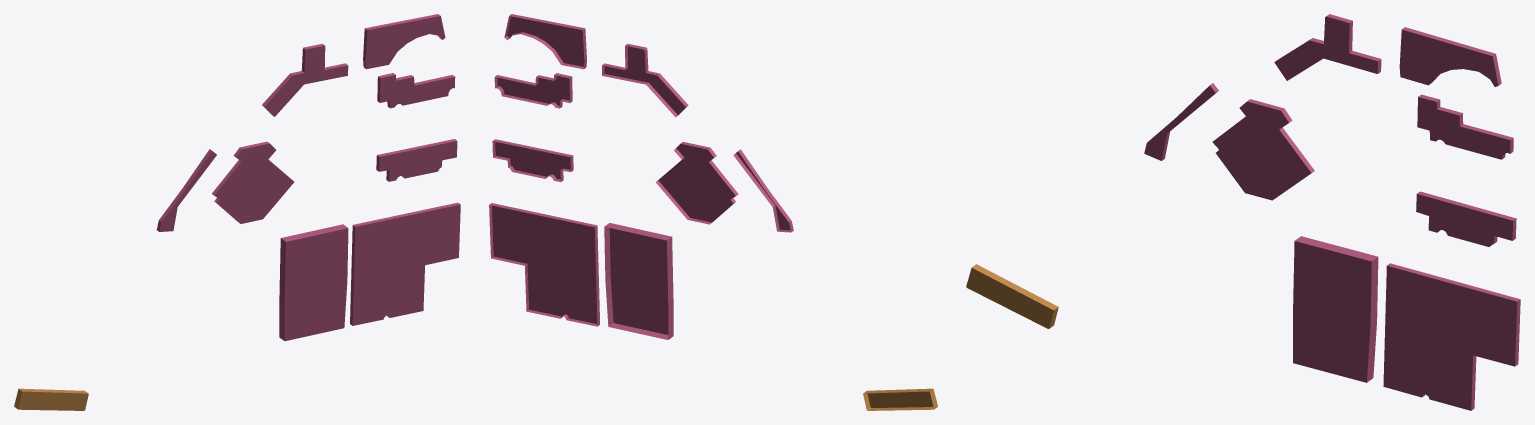
File: buildings_k03.obj
The picture shows the model from 3 angles, left to right: view 1: azimuth 30°, elevation 25°; view 2: azimuth 150°, elevation 25°; view 3: azimuth 330°, elevation 25°; orthographic projection. The views are drawn at different scales.
Parts seen in each view (by area): view 1: roof1, zone1, roof2; view 2: roof1, zone1, roof2, zone2; view 3: roof1, zone1, roof2, zone2.
Boxes of the visible parts, x1,y1,x2,y2 form: roof1: [159, 16, 460, 340]; zone1: [156, 14, 460, 340]; roof2: [18, 391, 88, 410]; roof1: [492, 16, 790, 334]; zone1: [489, 14, 793, 339]; roof2: [867, 391, 933, 407]; zone2: [863, 388, 937, 410]; roof1: [1144, 16, 1517, 410]; zone1: [1161, 14, 1520, 410]; roof2: [966, 268, 1053, 328]; zone2: [972, 264, 1058, 328].
Size of the model in its own units: 410 by 274 by 8.5.
